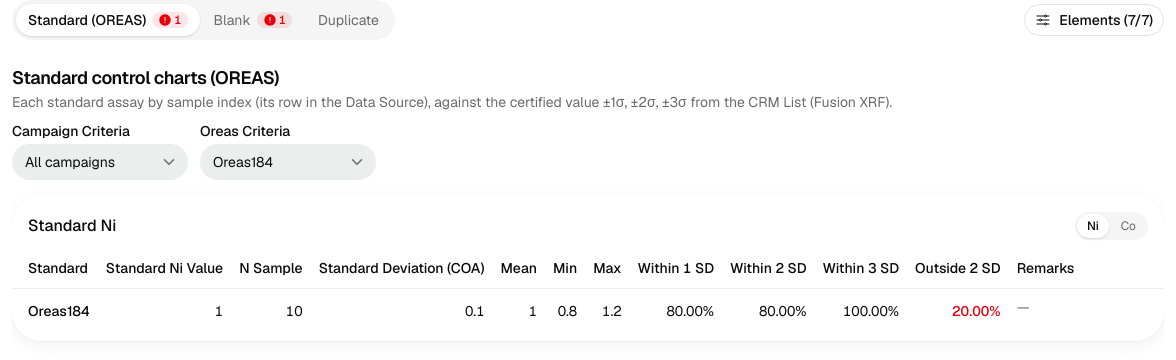
Test case: the standard section › shows one element's table at a time, picked from the card's tabs
Check: the text "Standard Ni" is shown, box [28, 214, 116, 238]
What coordinates should you click on to do the following:
click the tab "Co"
I would click on:
 (1128, 226)
Its box is [1111, 214, 1146, 238].
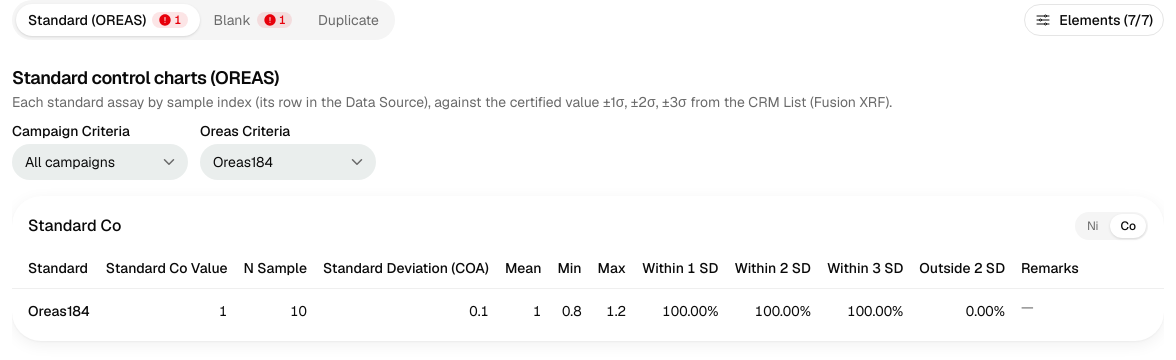
Check: the text "Standard Co" is shown, box [28, 214, 121, 238]
Check: the text "Standard Ni" is gone
